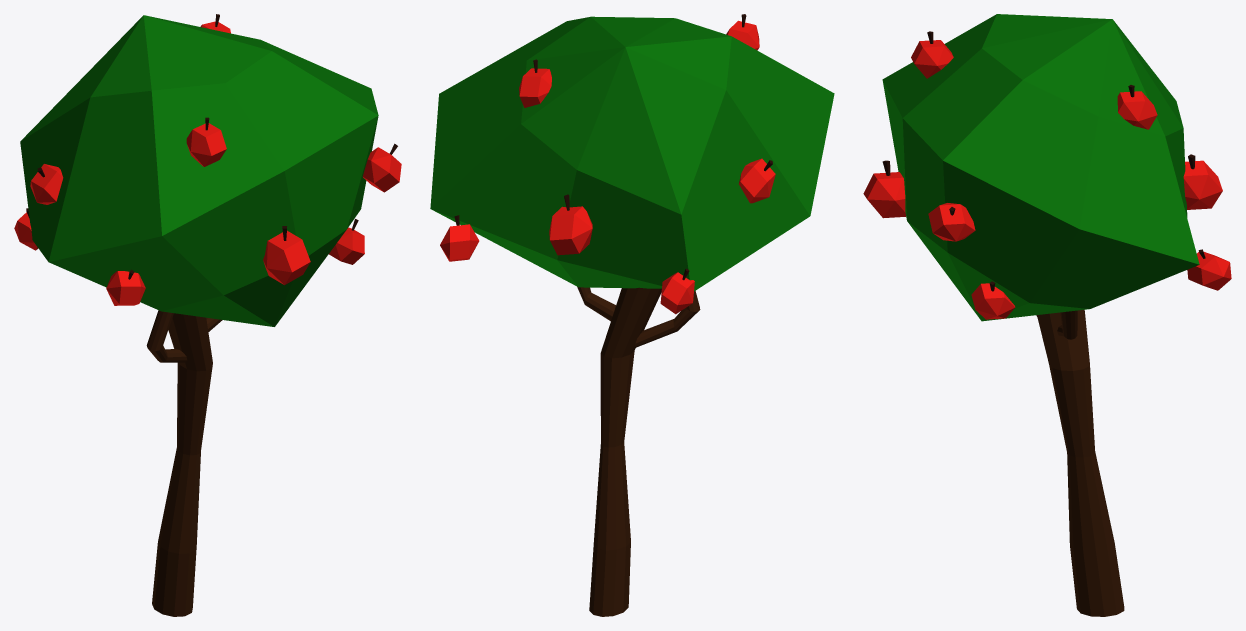
Rendered from tree 2.fbx.
3 renders of one model, left to right at view 1: azimuth 30°, elevation 25°; view 2: azimuth 150°, elevation 25°; view 3: azimuth 270°, elevation 25°, orthographic. The views are drawn at different scales.
Parts seen in each view (by area): view 1: tree 2; view 2: tree 2; view 3: tree 2.
Boxes of the visible parts, bbox=[...] form: tree 2: bbox=[14, 14, 401, 616]; tree 2: bbox=[430, 14, 834, 616]; tree 2: bbox=[863, 14, 1231, 616].
Bounding box in the file's own units: 374 × 598 × 345.
